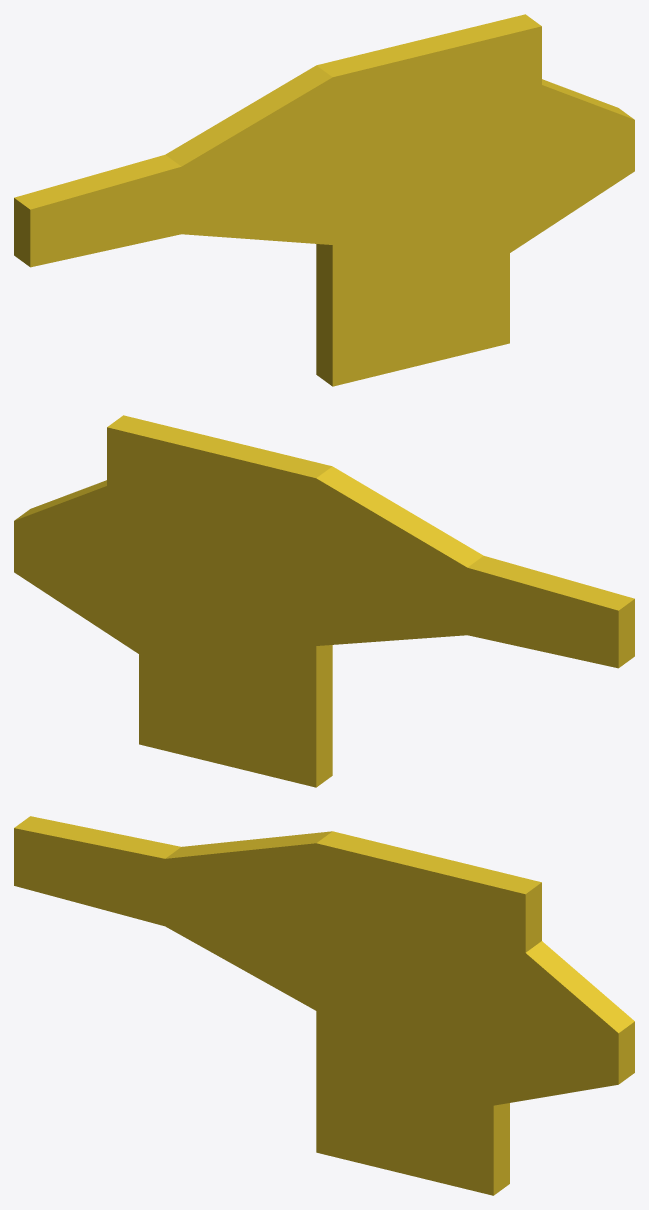
File: gun.glb
The picture shows the model from 3 angles, top to bottom: view 1: azimuth 30°, elevation 25°; view 2: azimuth 150°, elevation 25°; view 3: azimuth 330°, elevation 25°; orthographic projection.
Parts seen in each view (by area): view 1: Cube; view 2: Cube; view 3: Cube.
Boxes of the visible parts, left/top/right/bottom form: Cube: left=14, top=14, right=634, bottom=386; Cube: left=14, top=415, right=634, bottom=787; Cube: left=14, top=816, right=634, bottom=1195.
Size of the model in its own units: 0.3321 by 0.1624 by 0.0156.
